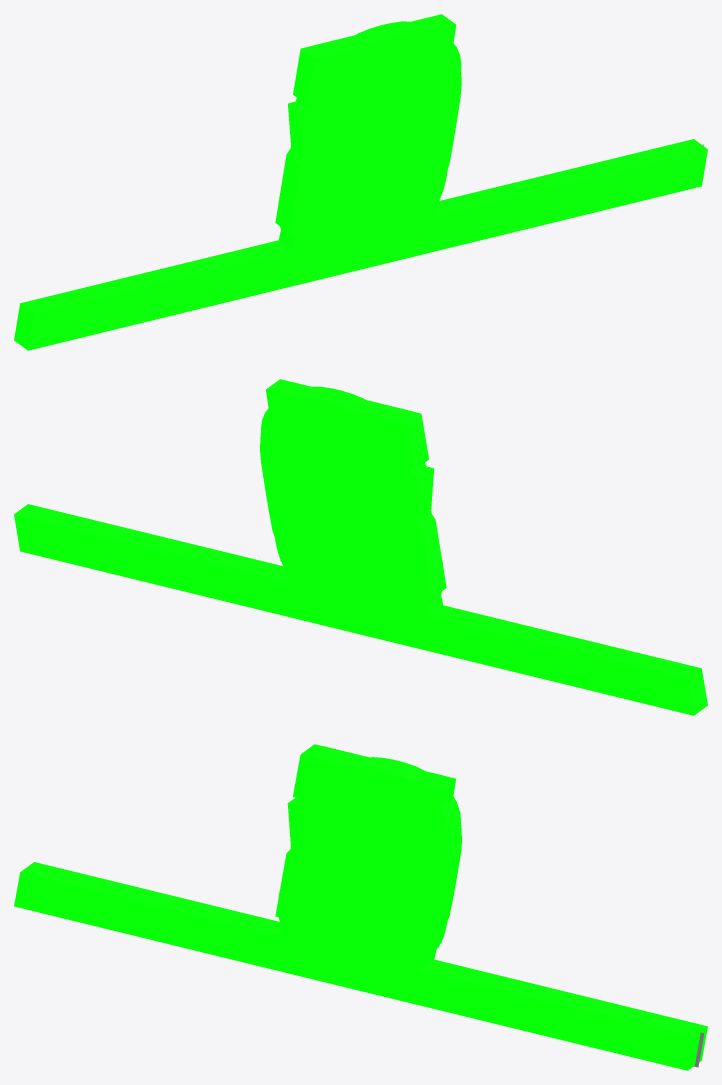
The model's file is Numbers.glb.
3 views of the same model, one above another, from view 1: azimuth 30°, elevation 25°; view 2: azimuth 150°, elevation 25°; view 3: azimuth 330°, elevation 25° (orthographic).
Parts seen in each view (by area): view 1: Bar_4_cell.012, Bar_4_cell.015, Num_9_cell.003, Num_9_cell, Bar_4_cell.014, Num_9_cell.019, Bar_4_cell.006, Bar_4_cell.002, Num_9_cell.010, Num_9_cell.018, Num_9_cell.004, Bar_4_cell.005 (+20 smaller); view 2: Bar_4, Bar_3_cell.004, Num_0_cell.024, Num_0_cell.011, Num_0_cell.005, Num_0_cell.020, Bar_2_cell.005, Num_0_cell.025, Bar_3_cell, Num_0_cell.023, Num_2_cell, Num_0_cell.008 (+21 smaller); view 3: Bar_4_cell.012, Bar_4_cell.015, Num_9_cell.003, Num_9_cell, Bar_4_cell.014, Num_9_cell.019, Bar_4_cell.006, Bar_4_cell.002, Num_9_cell.010, Num_9_cell.018, Num_9_cell.004, Bar_4_cell.003 (+20 smaller).
Boxes of the visible parts, left/top/right/bottom form: Bar_4_cell.012: left=514, top=151, right=668, bottom=230; Bar_4_cell.015: left=20, top=281, right=151, bottom=350; Num_9_cell.003: left=295, top=184, right=392, bottom=259; Num_9_cell: left=308, top=99, right=373, bottom=172; Bar_4_cell.014: left=387, top=210, right=523, bottom=261; Num_9_cell.019: left=389, top=34, right=453, bottom=104; Bar_4_cell.006: left=175, top=251, right=253, bottom=311; Bar_4_cell.002: left=235, top=246, right=342, bottom=295; Num_9_cell.010: left=373, top=98, right=445, bottom=158; Num_9_cell.018: left=395, top=134, right=450, bottom=211; Num_9_cell.004: left=314, top=38, right=393, bottom=100; Bar_4_cell.005: left=110, top=279, right=188, bottom=330; Bar_4: left=14, top=514, right=707, bottom=715; Bar_3_cell.004: left=104, top=538, right=199, bottom=595; Num_0_cell.024: left=264, top=486, right=317, bottom=579; Num_0_cell.011: left=333, top=502, right=405, bottom=608; Num_0_cell.005: left=264, top=398, right=314, bottom=500; Num_0_cell.020: left=347, top=429, right=409, bottom=502; Bar_2_cell.005: left=194, top=548, right=265, bottom=605; Num_0_cell.025: left=375, top=532, right=422, bottom=620; Bar_3_cell: left=508, top=635, right=586, bottom=684; Num_0_cell.023: left=291, top=391, right=352, bottom=454; Num_2_cell: left=323, top=508, right=397, bottom=592; Num_0_cell.008: left=296, top=561, right=361, bottom=614; Bar_4_cell.012: left=504, top=982, right=656, bottom=1053; Bar_4_cell.015: left=14, top=862, right=137, bottom=925; Num_9_cell.003: left=280, top=890, right=378, bottom=970; Num_9_cell: left=293, top=796, right=359, bottom=885; Bar_4_cell.014: left=373, top=970, right=509, bottom=1025; Num_9_cell.019: left=375, top=772, right=438, bottom=859; Bar_4_cell.006: left=161, top=900, right=248, bottom=961; Bar_4_cell.002: left=234, top=914, right=328, bottom=980; Num_9_cell.010: left=359, top=840, right=431, bottom=902; Num_9_cell.018: left=381, top=893, right=436, bottom=960; Num_9_cell.004: left=299, top=767, right=379, bottom=806; Bar_4_cell.003: left=650, top=1017, right=707, bottom=1070.
Bounding box in the file's own units: 3.4 × 1.08 × 0.1237.
